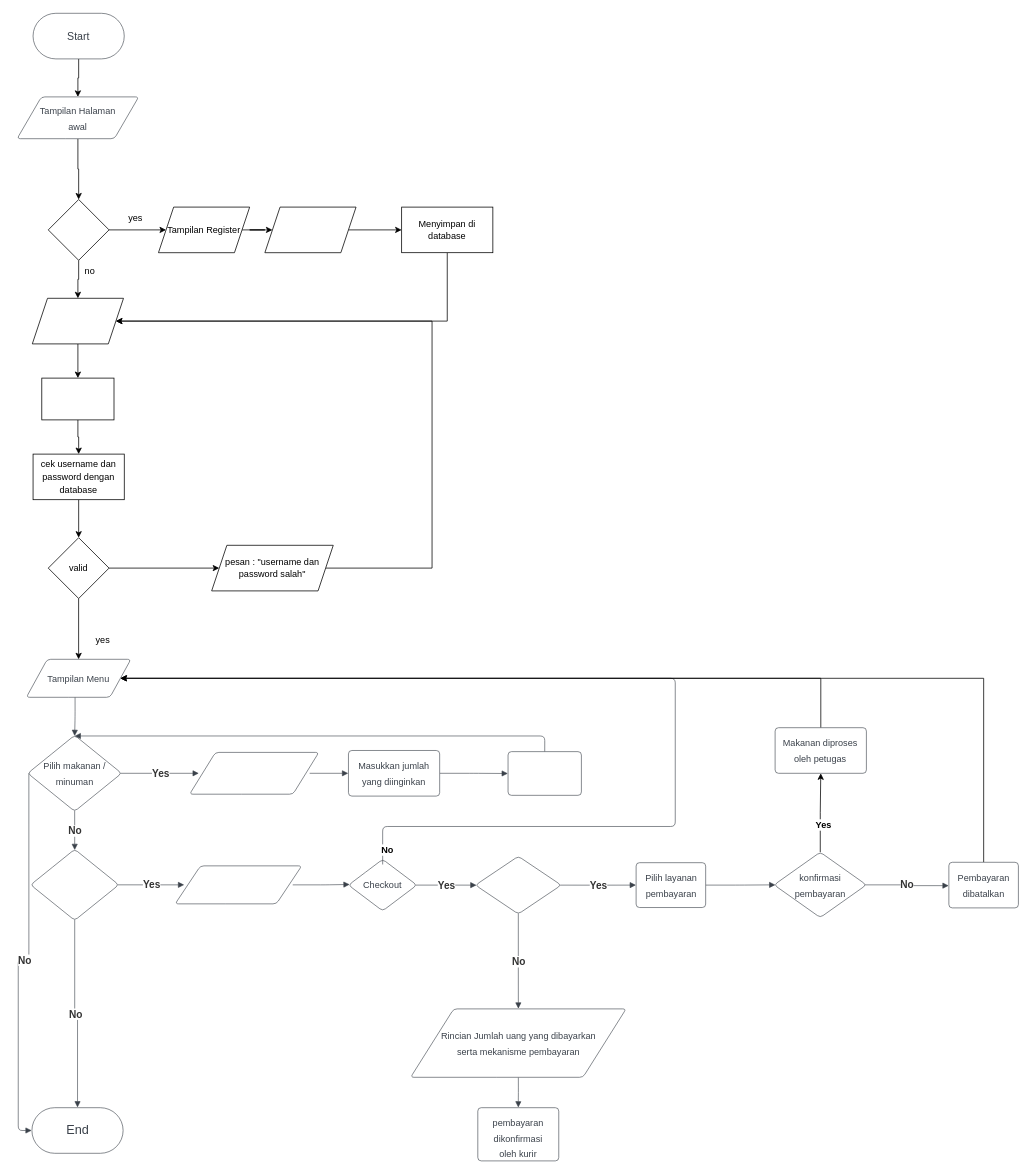
This 1032x1174 diagram has some shape labels left out. The centre of each missing label's shape, as x and y in pixels:
Jumlah item keranjang > 0: point 74,884
Masukkan ke keranjang: point 544,773
Memasukkan username dan password: point 310,229
Pembayaran online: point 518,885
register: point 78,229
Tampilan isi keranjang: point 238,884
Tampilan Login: point 78,321
Tampilan rincian makanan / minuman: point 254,773
username dan password: point 77,398
